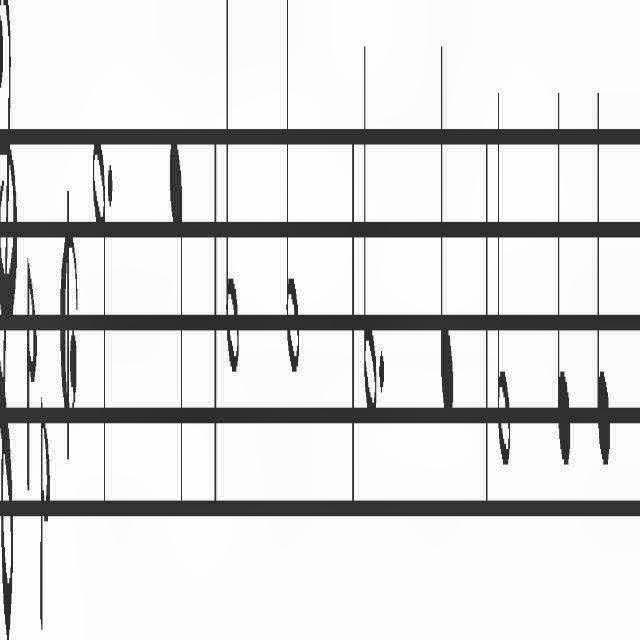Bass-clef: (0, 0, 18, 640)
Bemol: (26, 257, 38, 498), (40, 384, 50, 636)
Half-note: (496, 77, 512, 476), (362, 28, 378, 424), (92, 126, 108, 516), (284, 0, 300, 388), (224, 0, 240, 382)
Quarter-note: (556, 68, 572, 476), (168, 124, 184, 516), (595, 81, 611, 471), (440, 26, 454, 424)
